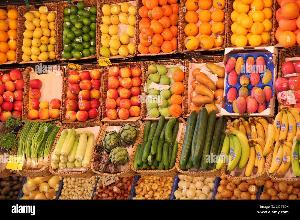apple: (62, 64, 104, 120), (103, 63, 142, 121), (24, 68, 60, 123), (1, 64, 25, 126)
banana: (221, 108, 300, 178)
corn: (49, 124, 99, 172)
cucumber: (180, 113, 224, 173), (135, 116, 181, 172)
lemon: (19, 4, 57, 64), (99, 7, 137, 58)
lime: (57, 3, 99, 57)
onion: (22, 176, 64, 204), (132, 174, 174, 200), (93, 175, 133, 201), (215, 179, 262, 199), (262, 180, 300, 202)
orange: (136, 1, 180, 54), (228, 0, 274, 46), (184, 0, 228, 48), (277, 0, 299, 46), (1, 5, 18, 62), (170, 65, 186, 119)
pear: (144, 64, 170, 118)
